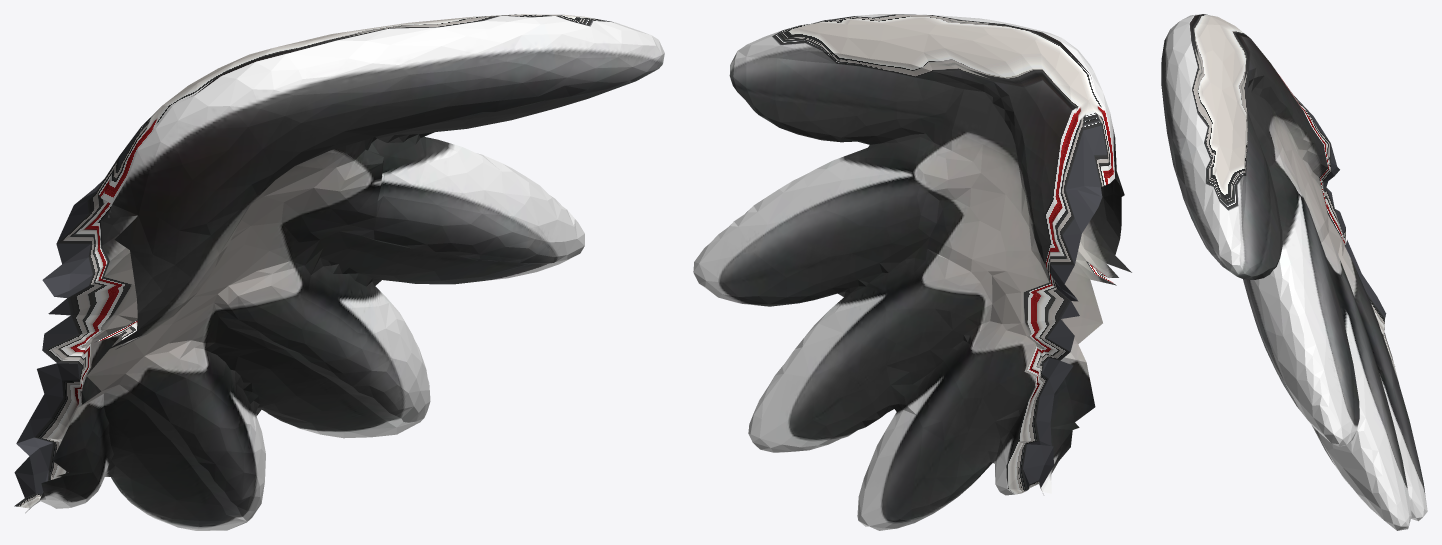
File: WingR.obj
3 views of the same model, side by side, from view 1: azimuth 30°, elevation 25°; view 2: azimuth 150°, elevation 25°; view 3: azimuth 270°, elevation 25° (orthographic). The views are drawn at different scales.
Visible parts, largest first — view 1: shape.obj; view 2: shape.obj; view 3: shape.obj.
Boxes of the visible parts, box(x1,y1,x2,y2) form: shape.obj: box(14, 14, 664, 530); shape.obj: box(693, 14, 1131, 530); shape.obj: box(1161, 14, 1427, 530).
Bounding box in the file's own units: 0.6187 × 0.6389 × 0.3341.
Materials: 1 (1 with a texture image).
